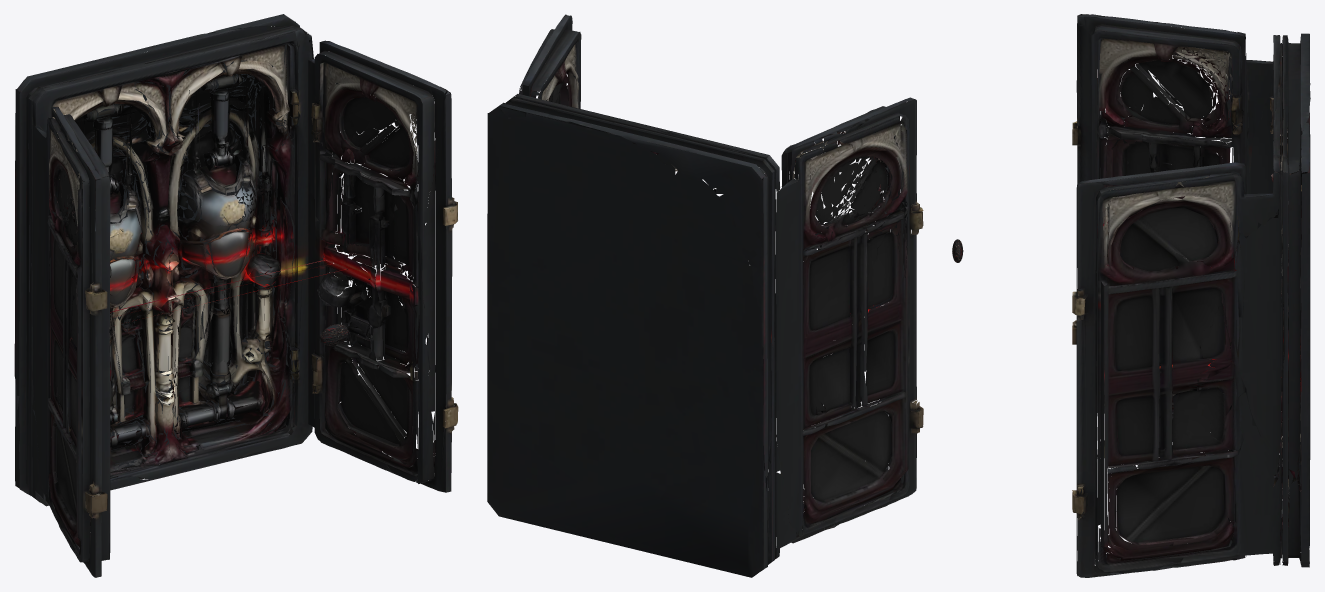
Rendered from chen_executive_bodyguard_rack.glb.
3 renders of one model, left to right at view 1: azimuth 30°, elevation 25°; view 2: azimuth 150°, elevation 25°; view 3: azimuth 270°, elevation 25°, orthographic.
Visible parts, largest first — view 1: node_0; view 2: node_0; view 3: node_0.
Boxes of the visible parts, box(x1,y1,x2,y2) form: node_0: box(14, 14, 458, 577); node_0: box(487, 14, 923, 577); node_0: box(1072, 14, 1310, 577).
Size of the model in its own units: 0.7899 by 0.8517 by 0.6723.
Materials: 1 (1 with a texture image).
